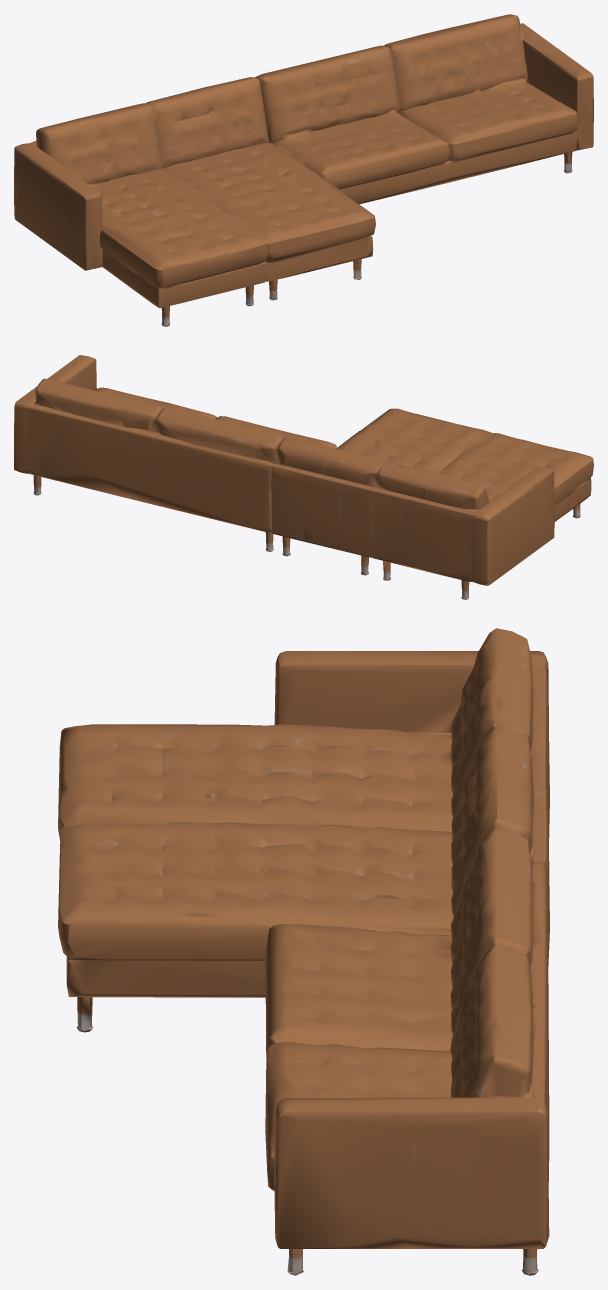
File: 17 - LANDSKRONA 5-seat sofa - with chaise longuesGrannBomstad golden-brownmetal.glb
3 views of the same model, one above another, from view 1: azimuth 30°, elevation 25°; view 2: azimuth 150°, elevation 25°; view 3: azimuth 270°, elevation 25° (orthographic). The views are drawn at different scales.
Parts seen in each view (by area): view 1: ProcessedMeshNode; view 2: ProcessedMeshNode; view 3: ProcessedMeshNode.
Boxes of the visible parts, x1,y1,x2,y2 form: ProcessedMeshNode: (14, 14, 593, 326); ProcessedMeshNode: (14, 355, 593, 599); ProcessedMeshNode: (58, 628, 549, 1275).
Size of the model in its own units: 3.58 by 0.7859 by 1.6.
1 material, 1 textured.
